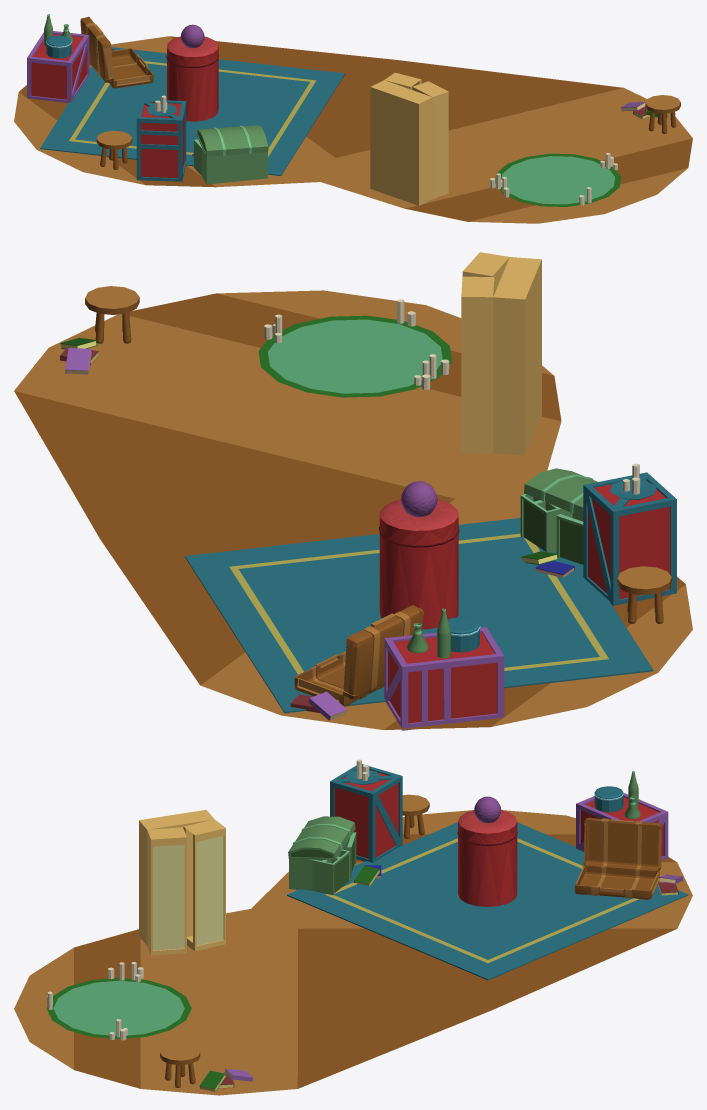
Rendered from SM_adivinacion_interior_mats04.fbx.
3 renders of one model, top to bottom at view 1: azimuth 30°, elevation 25°; view 2: azimuth 150°, elevation 25°; view 3: azimuth 270°, elevation 25°, orthographic. The views are drawn at different scales.
Parts seen in each view (by area): view 1: Cylinder, Plane, Box001.001, Box003, Box003.001, parte_abajo_izqueirda.001, Parte_arriba, Box001, Box002, Object004, Cylinder013, Cylinder013.001 (+2 smaller); view 2: Cylinder, Plane, Box003.001, Box001.001, Box003, Parte_abajo_derecha.001, Object004, Parte_arriba, parte_abajo_izqueirda, Box002, Cylinder013, Cylinder013.001 (+3 smaller); view 3: Cylinder, Plane, parte_abajo_izqueirda.001, Parte_abajo_derecha.001, Box003, Object004, Box002, Parte_arriba, Box001.001, Box003.001, parte_abajo_izqueirda, Box001 (+3 smaller).
Boxes of the visible parts, x1,y1,x2,y2 form: Cylinder: [14, 24, 692, 223]; Plane: [40, 47, 345, 175]; Box001.001: [370, 80, 432, 205]; Box003: [136, 99, 186, 181]; Box003.001: [27, 31, 89, 102]; parte_abajo_izqueirda.001: [412, 81, 448, 198]; Parte_arriba: [196, 125, 268, 156]; Box001: [201, 148, 267, 184]; Box002: [108, 48, 153, 88]; Object004: [80, 16, 113, 82]; Cylinder013: [96, 130, 132, 149]; Cylinder013.001: [645, 95, 680, 113]; Cylinder: [14, 290, 692, 729]; Plane: [185, 518, 653, 713]; Box003.001: [384, 627, 504, 730]; Box001.001: [493, 257, 541, 455]; Box003: [583, 472, 676, 605]; Parte_abajo_derecha.001: [461, 276, 494, 453]; Object004: [343, 605, 423, 699]; Parte_arriba: [524, 468, 597, 516]; parte_abajo_izqueirda: [520, 494, 572, 552]; Box002: [294, 651, 384, 706]; Cylinder013: [617, 566, 671, 595]; Cylinder013.001: [85, 286, 139, 314]; Cylinder: [14, 796, 692, 1095]; Plane: [287, 822, 688, 980]; parte_abajo_izqueirda.001: [147, 827, 186, 955]; Parte_abajo_derecha.001: [183, 819, 225, 951]; Box003: [330, 764, 402, 862]; Object004: [583, 817, 661, 872]; Box002: [574, 864, 659, 899]; Parte_arriba: [288, 816, 355, 860]; Box001.001: [139, 810, 214, 945]; Box003.001: [576, 793, 668, 860]; parte_abajo_izqueirda: [312, 849, 349, 895]; Box001: [289, 859, 312, 890].
Bounding box in the file's own units: 659 × 127 × 660.
